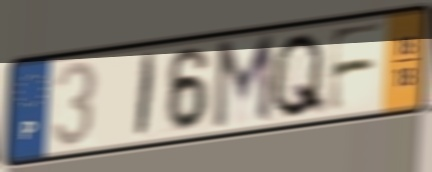3: (53, 57, 102, 152)
6: (162, 44, 215, 136)
F: (324, 19, 388, 117)
I: (132, 49, 160, 143)
M: (210, 30, 277, 135)
Q: (267, 29, 328, 122)
